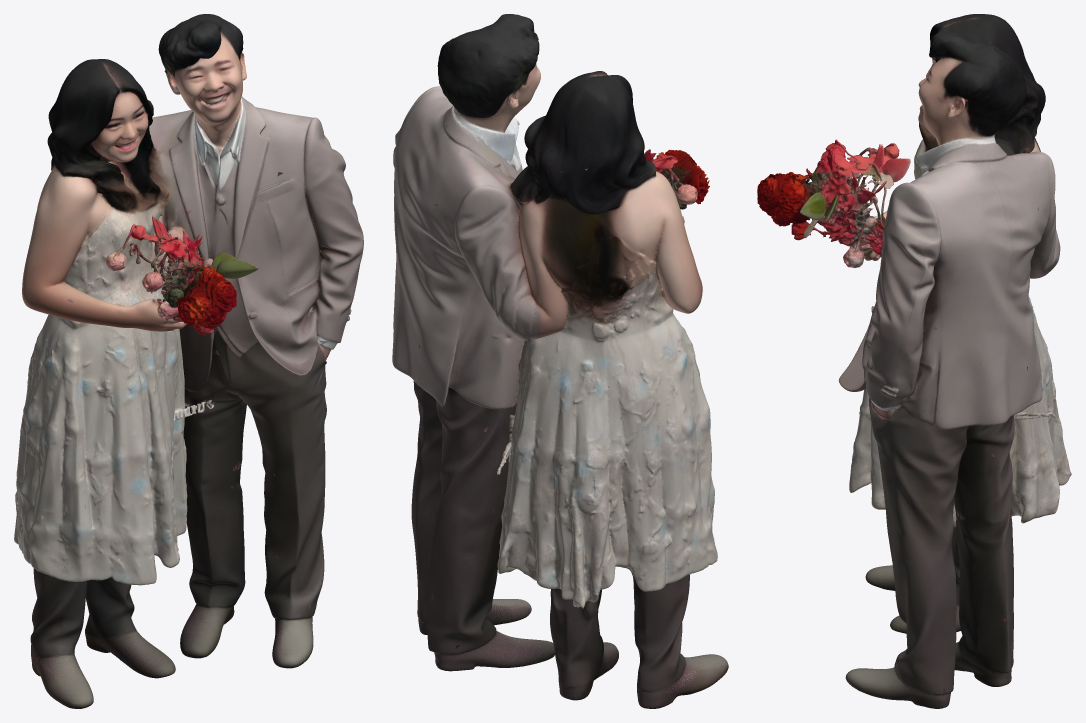
The model's file is meshy_hearts.glb.
3 views of the same model, side by side, from view 1: azimuth 30°, elevation 25°; view 2: azimuth 150°, elevation 25°; view 3: azimuth 270°, elevation 25° (orthographic). The views are drawn at different scales.
Bounding box in the file's own units: 1.01 × 1.9 × 0.8608.
Materials: 1 (1 with a texture image).
